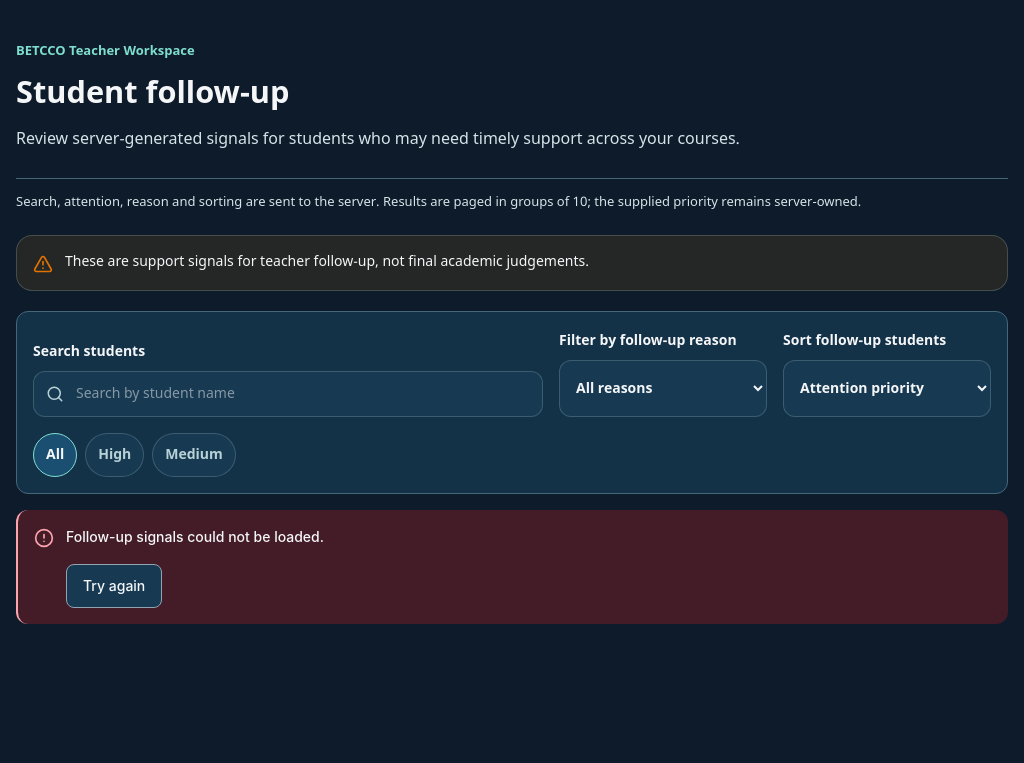
Test case: truthful Teacher query-state adoption (en) › keeps a cold follow-up failure separate from empty and retries the exact existing request
Expected: the message shows "Follow-up signals could not be loaded.", x1=66 y1=528 x2=324 y2=545
Click the button "Try again" at (114, 586), box x1=66 y1=564 x2=162 y2=608
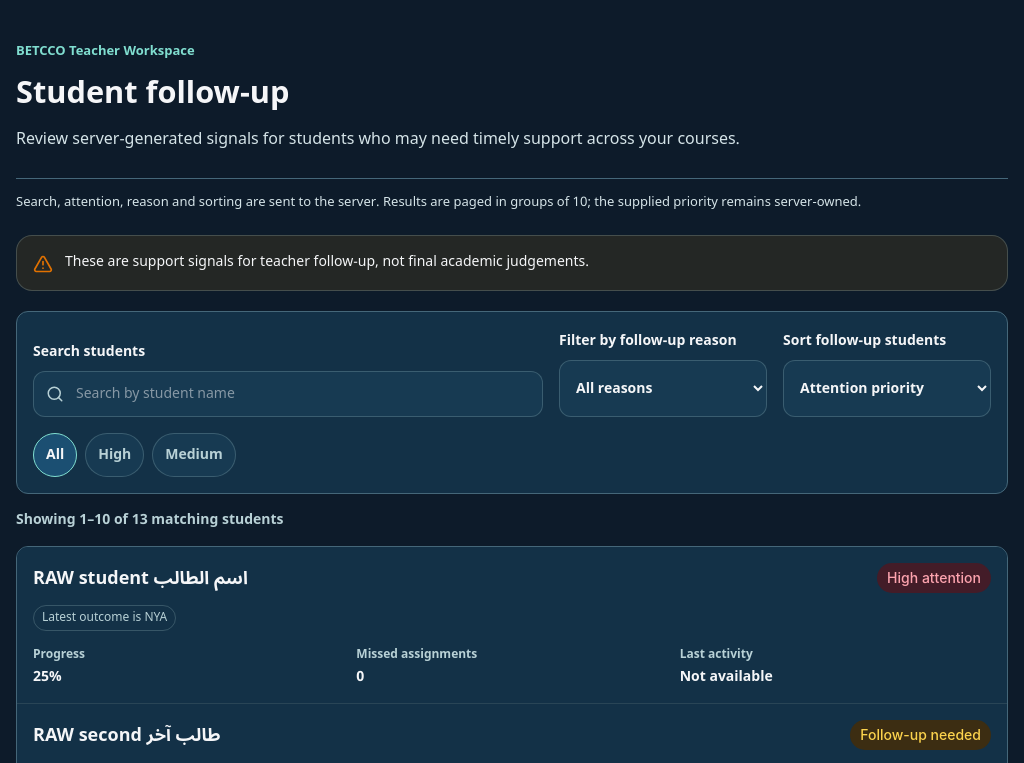
Expected: the heading "RAW student اسم الطالب" is shown, x1=33 y1=563 x2=248 y2=593
